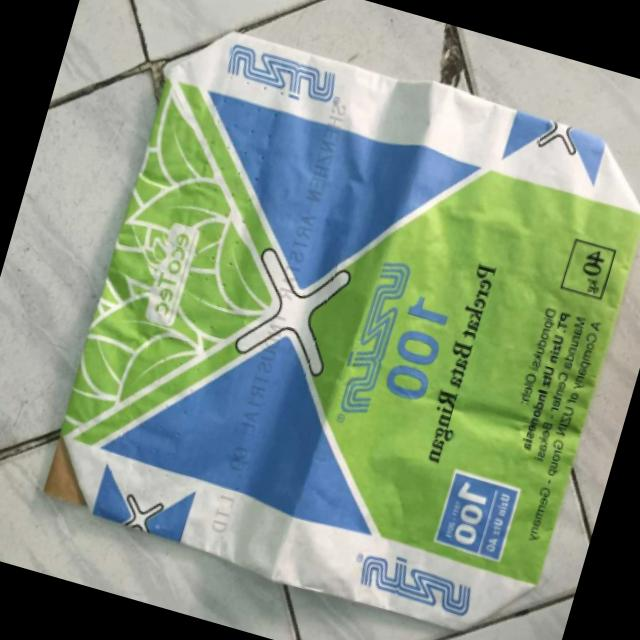KantongSemen: (33, 6, 640, 640)
